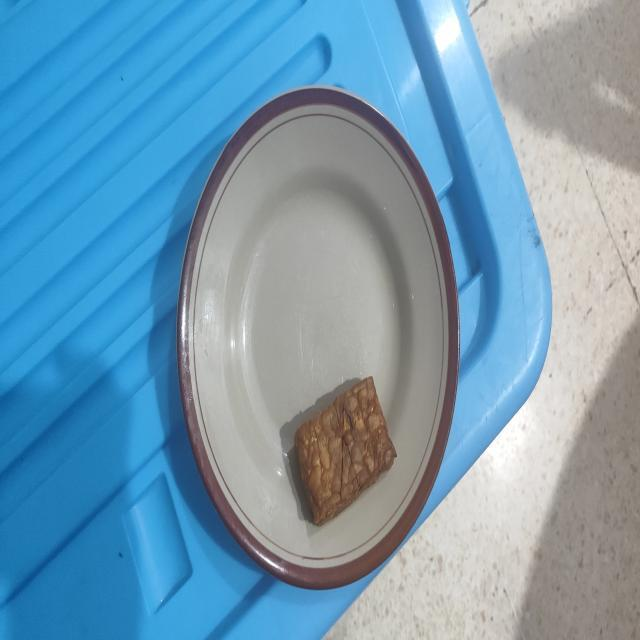tempe_goreng: (294, 377, 396, 525)
